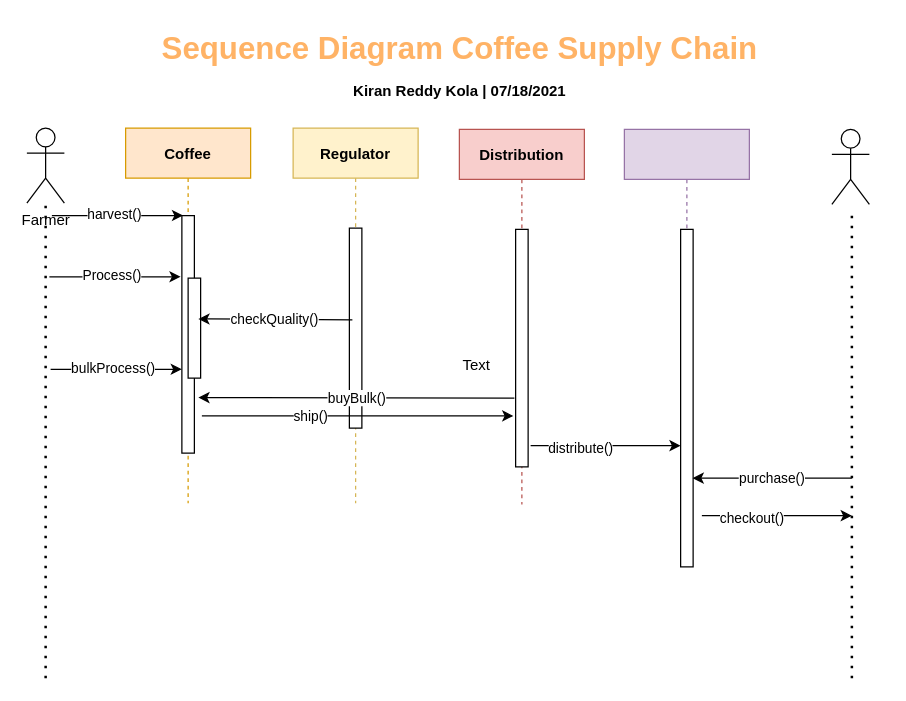
This 906x701 diagram has some shape labels left out. Here are the shapes that lost their labels. From the top down, the box of each, then its label:
(831, 128, 869, 204): Consumer
(623, 128, 749, 567): Retailer
